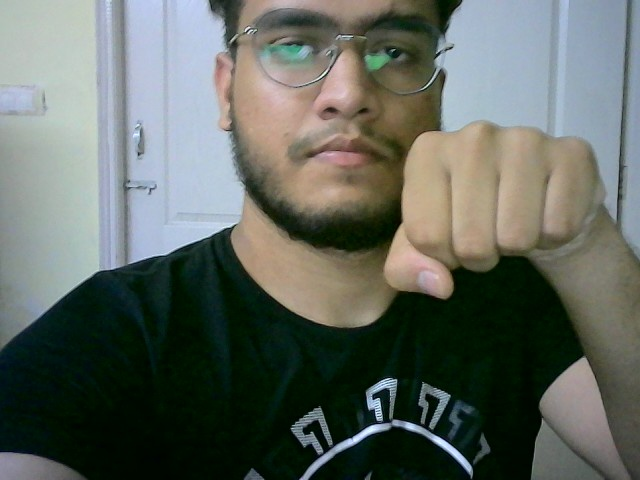Yes: (373, 116, 610, 303)
